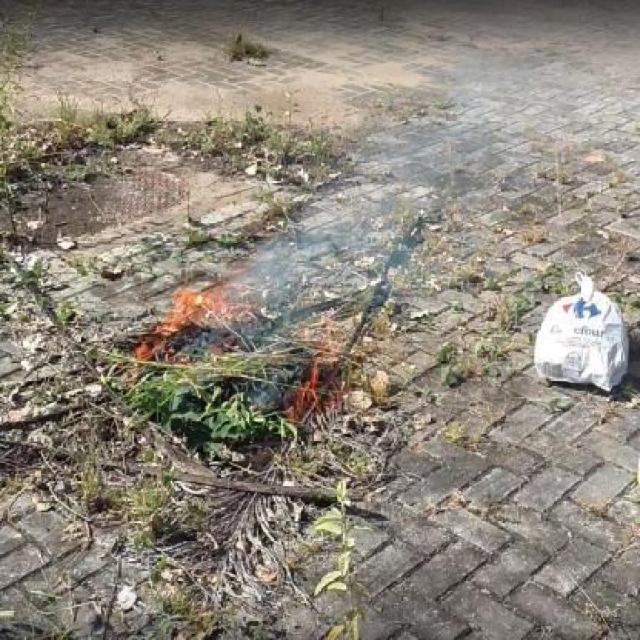Fire: (132, 280, 234, 363), (280, 352, 332, 426)
